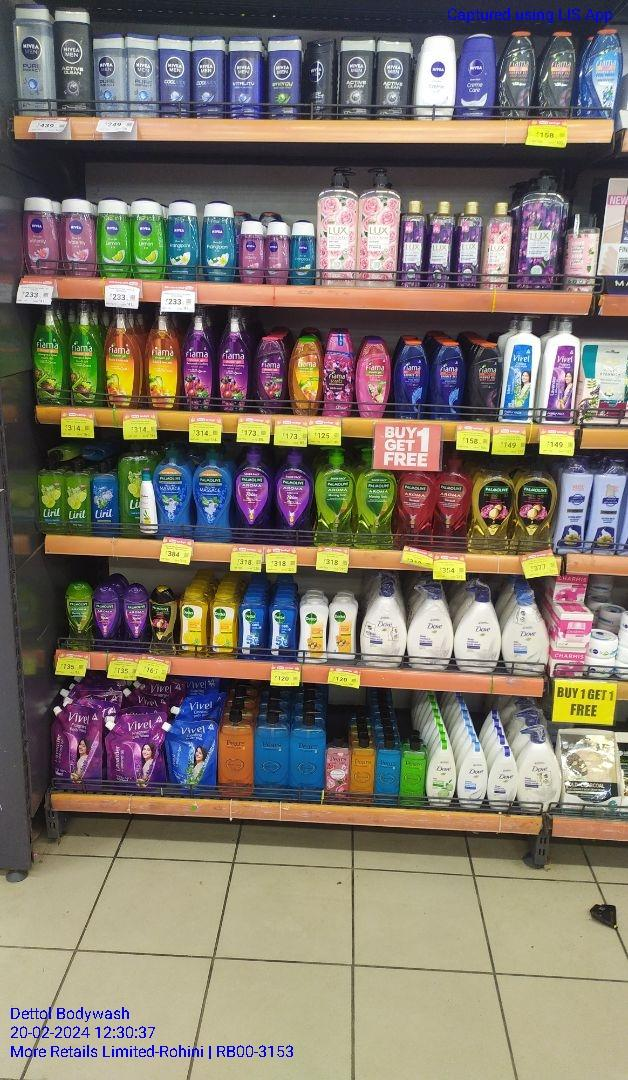Dettol_Bodywash_Cool: (237, 595, 267, 660), (269, 598, 297, 661)
Dettol_Bodywash_Refresh: (178, 590, 207, 653), (210, 589, 236, 657)
Dettol_Nourish_Body_Wash_250ML: (300, 593, 327, 664), (329, 595, 357, 660)
Dove_Deep_Moisture_Body_Wash_250ML: (488, 746, 517, 811)
Dove_Gentle_Exfoliating_Body_Wash_250ML: (458, 739, 486, 809)
Dove_Refreshing_Body_Wash_250ML: (427, 739, 457, 807)
Fiama_Shower_Gel_Patchouli_and_Macadamia_250ML: (356, 334, 392, 417)
Fiama_Shower_Gel_Peach_and_Avocado_250ML: (288, 335, 323, 416)
Liril_Cooling_Mint_Body_Wash_250ML: (94, 460, 119, 534)
Liril_Lime_and_Tea_Tree_Oil_Body_Wash_250ML: (39, 455, 64, 535), (67, 459, 92, 536)
Lux_Black_Orchid_Scent_and_Juniper_Oil_Body_Wash_245ML: (399, 201, 428, 288), (456, 199, 482, 287), (429, 200, 454, 288)
Nivea_Creme_Care_Body_Wash_250ML: (457, 33, 496, 121)
Nivea_Creme_Soft_Body_Wash_250ML: (415, 33, 453, 120)
Nivea_Shower_Gel_Frangipani_and_Oil_250ML: (167, 200, 200, 279), (202, 200, 234, 281)
Nivea_Shower_Gel_Lemon_and_Oil_250ML: (132, 198, 164, 278), (98, 198, 129, 276)
Nivea_Shower_Gel_Waterlily_and_Oil_250ML: (23, 194, 59, 278), (62, 196, 97, 278)
Palmolive_Aroma_Morning_Tonic_Shower_Gel_250ML: (64, 581, 91, 649)
Palmolive_Aroma_Relax_250ML: (93, 584, 121, 653), (123, 583, 147, 653)
Palmolive_Luminous_Oils_Invigorating_Macadamia_Oil_With_Peony_250ML: (148, 585, 177, 655)
Pears_Pure_Glycerin_and_Lemon_Flower_Extracts_Body_Wash_250ML: (402, 737, 425, 804)
Pears_Pure_Glycerin_and_Mint_Extracts_Body_Wash_250ML: (375, 736, 400, 803)
